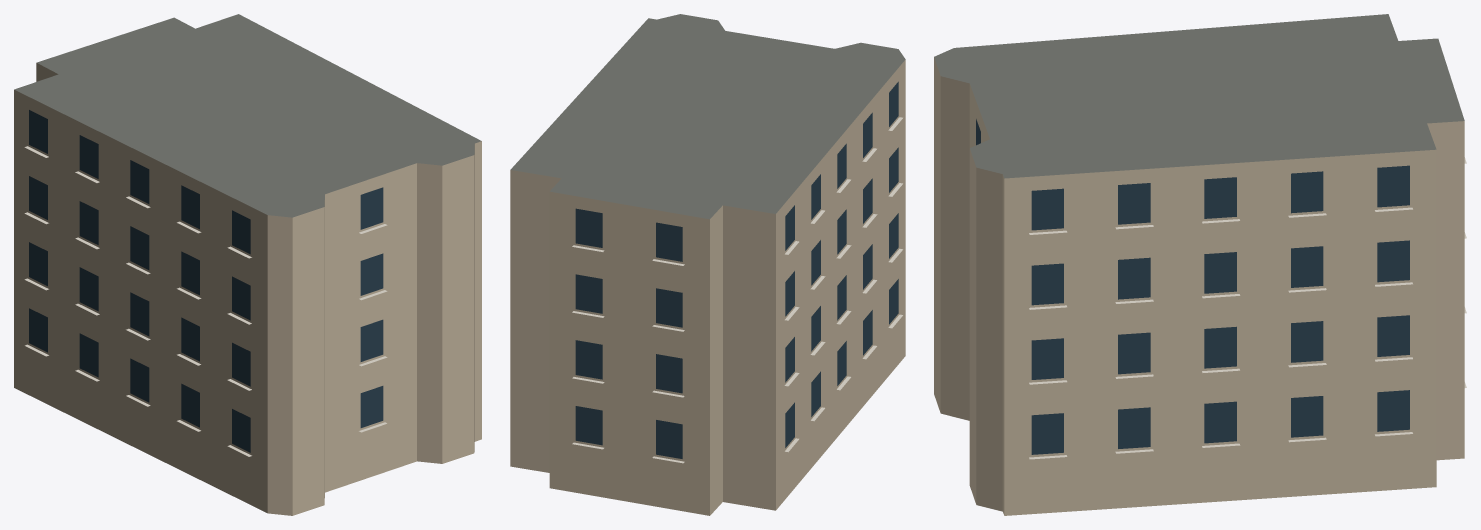
3 views of the same model, side by side, from view 1: azimuth 30°, elevation 25°; view 2: azimuth 150°, elevation 25°; view 3: azimuth 270°, elevation 25° (orthographic). The views are drawn at different scales.
Parts seen in each view (by area): view 1: Footprint 0, Inferred window bays, Window sills; view 2: Footprint 0, Inferred window bays, Window sills; view 3: Footprint 0, Inferred window bays, Window sills.
Boxes of the visible parts, x1,y1,x2,y2 form: Footprint 0: (14, 14, 481, 515); Inferred window bays: (29, 110, 383, 452); Window sills: (24, 146, 387, 456); Footprint 0: (510, 14, 905, 515); Inferred window bays: (575, 81, 898, 458); Window sills: (572, 117, 902, 463); Footprint 0: (934, 14, 1464, 515); Inferred window bays: (976, 119, 1409, 454); Window sills: (1029, 157, 1466, 459).
Size of the model in its own units: 14.82 by 14.04 by 20.09.
